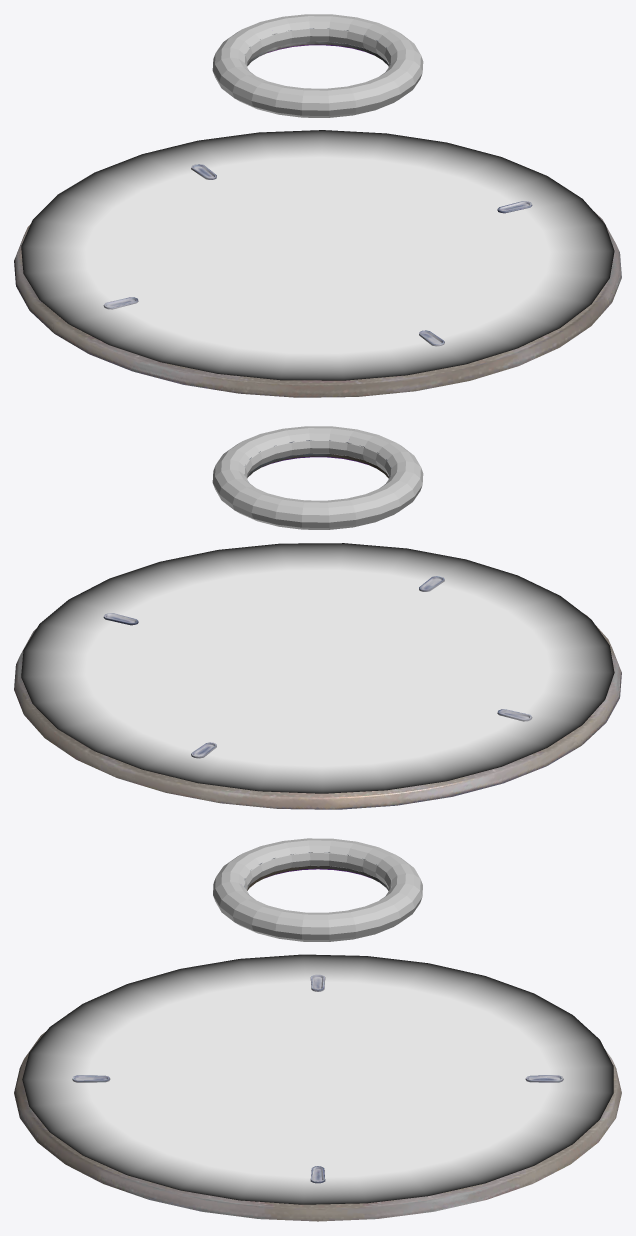
Rendered from pref_TPC_v2_NeutralScoreArea03_winter_purple_frozen_lv1.fbx.
3 renders of one model, top to bottom at view 1: azimuth 30°, elevation 25°; view 2: azimuth 150°, elevation 25°; view 3: azimuth 270°, elevation 25°, orthographic.
Parts seen in each view (by area): view 1: dm_ice_1, sm_prop_platform06a_lv1, ring, sm_prop_platform06b_lv1; view 2: dm_ice_1, sm_prop_platform06a_lv1, ring, sm_prop_platform06b_lv1; view 3: dm_ice_1, sm_prop_platform06a_lv1, ring, sm_prop_platform06b_lv1.
Boxes of the visible parts, bbox=[...] form: dm_ice_1: bbox=[21, 130, 614, 380]; sm_prop_platform06a_lv1: bbox=[14, 164, 621, 397]; ring: bbox=[212, 14, 423, 117]; sm_prop_platform06b_lv1: bbox=[244, 28, 391, 65]; dm_ice_1: bbox=[21, 543, 614, 793]; sm_prop_platform06a_lv1: bbox=[14, 576, 621, 809]; ring: bbox=[212, 426, 423, 529]; sm_prop_platform06b_lv1: bbox=[244, 440, 391, 484]; dm_ice_1: bbox=[22, 954, 613, 1204]; sm_prop_platform06a_lv1: bbox=[14, 974, 621, 1221]; ring: bbox=[213, 838, 422, 941]; sm_prop_platform06b_lv1: bbox=[244, 852, 391, 896].
Size of the model in its own units: 7.46 by 2.92 by 7.46.
